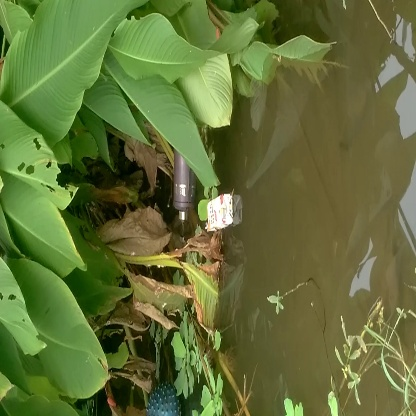milk-box: (201, 188, 240, 235)
